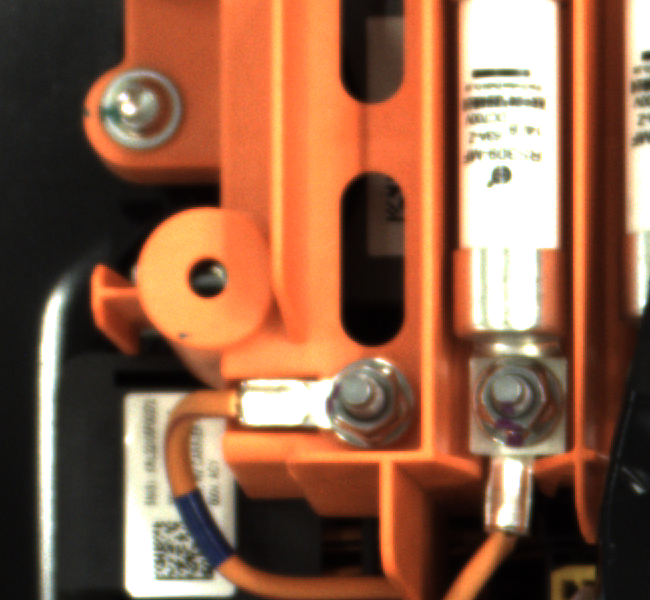screw_m: (96, 66, 198, 157)
screw_s: (312, 345, 415, 443), (474, 357, 578, 441)
